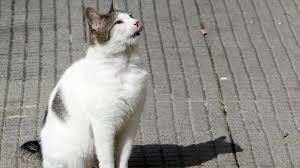cat: (17, 1, 151, 167)
